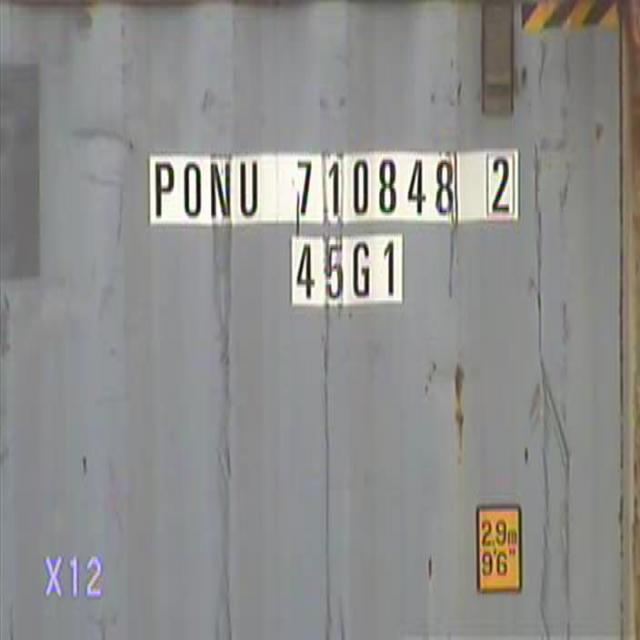container_number_h: (128, 126, 543, 344)
